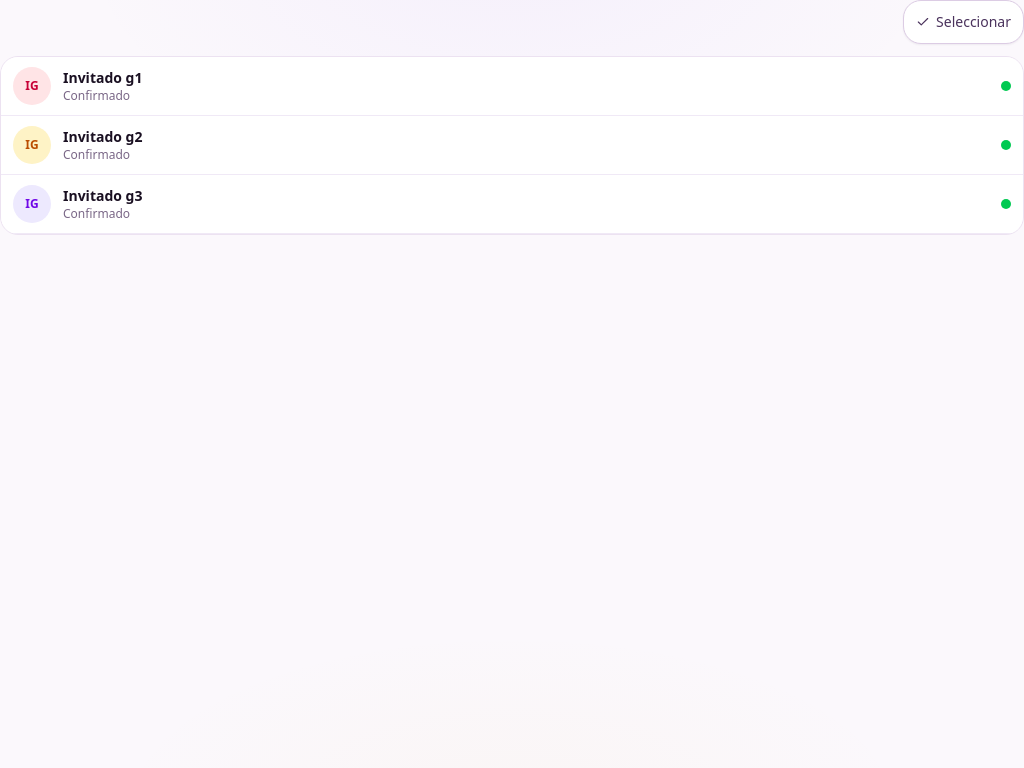
it: GuestList — modo selección › una acción masiva (eliminar) limpia la selección y sale del modo selección
Click the button "Seleccionar" at (964, 22), box [903, 0, 1023, 44]
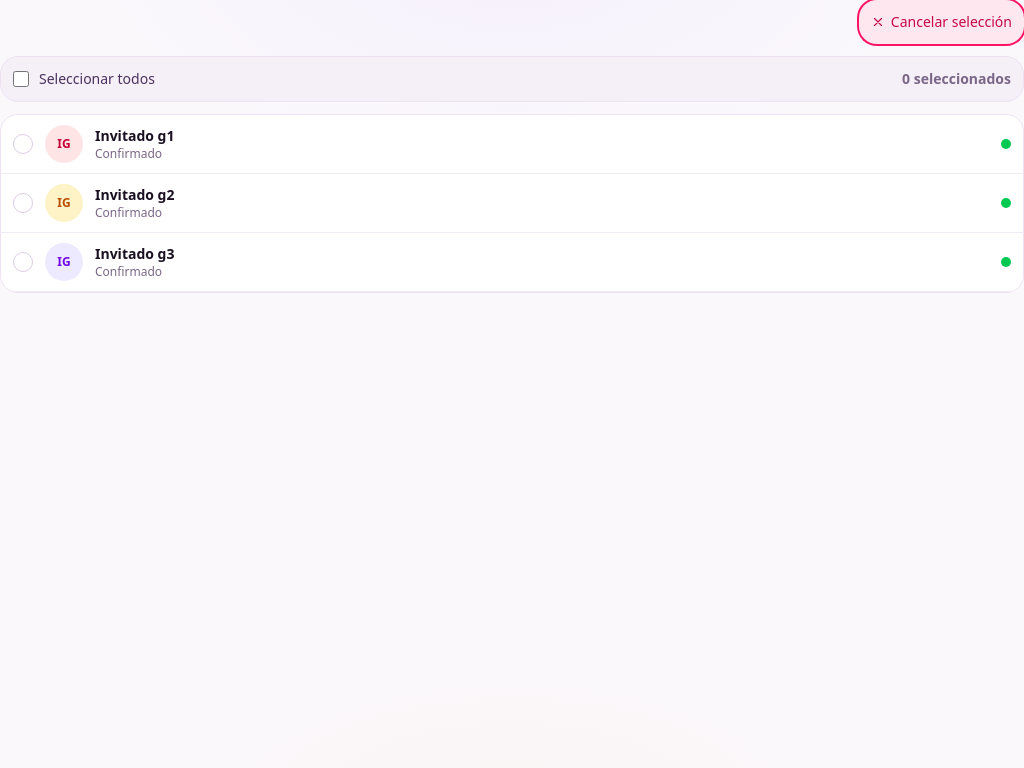
Click the checkbox named "Seleccionar todos los invitados" at (21, 79), box [13, 71, 29, 87]
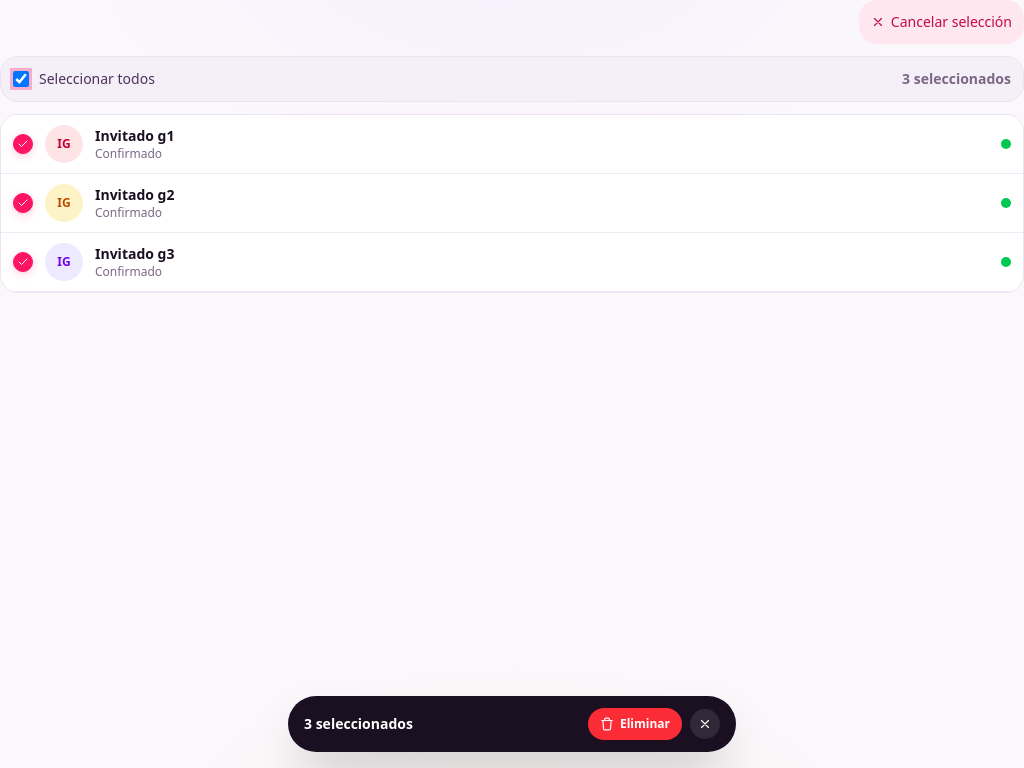
Click the button "Eliminar" at (635, 724), box [588, 708, 682, 740]
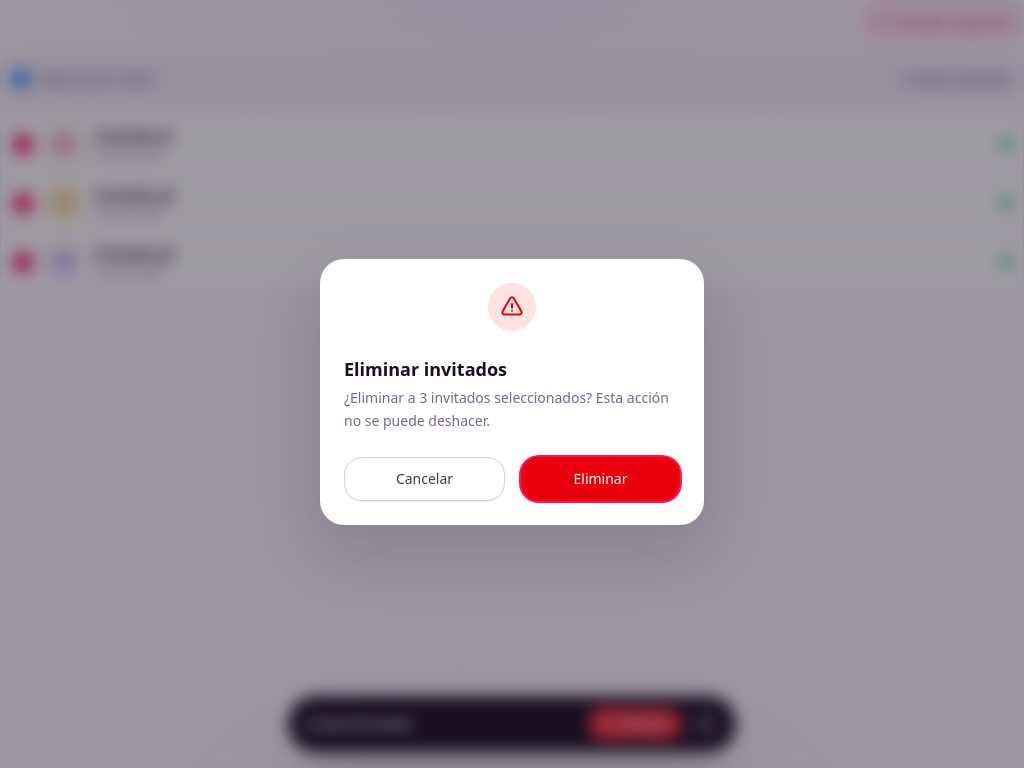
Click the button "Eliminar" at (600, 479), box [521, 457, 680, 501]
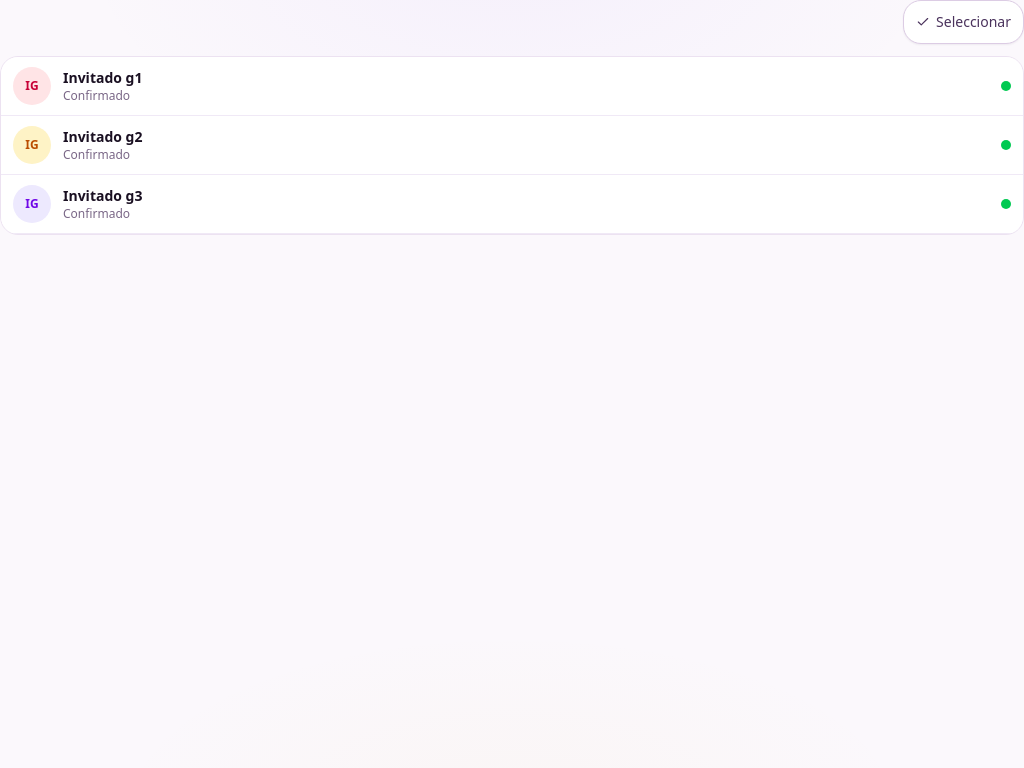
expect the button "Seleccionar" is shown: met, box [903, 0, 1023, 44]
